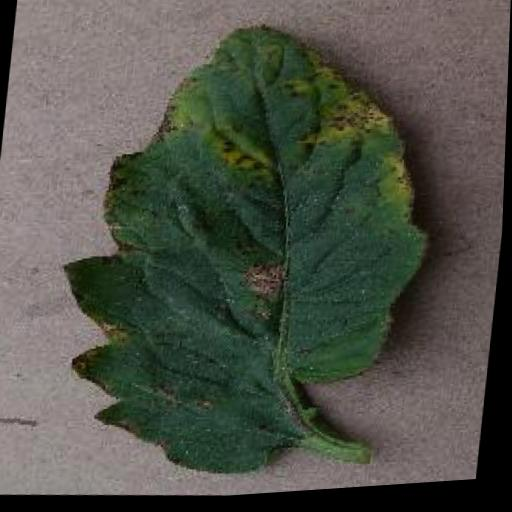Bacterial Spot: (42, 1, 453, 504)
